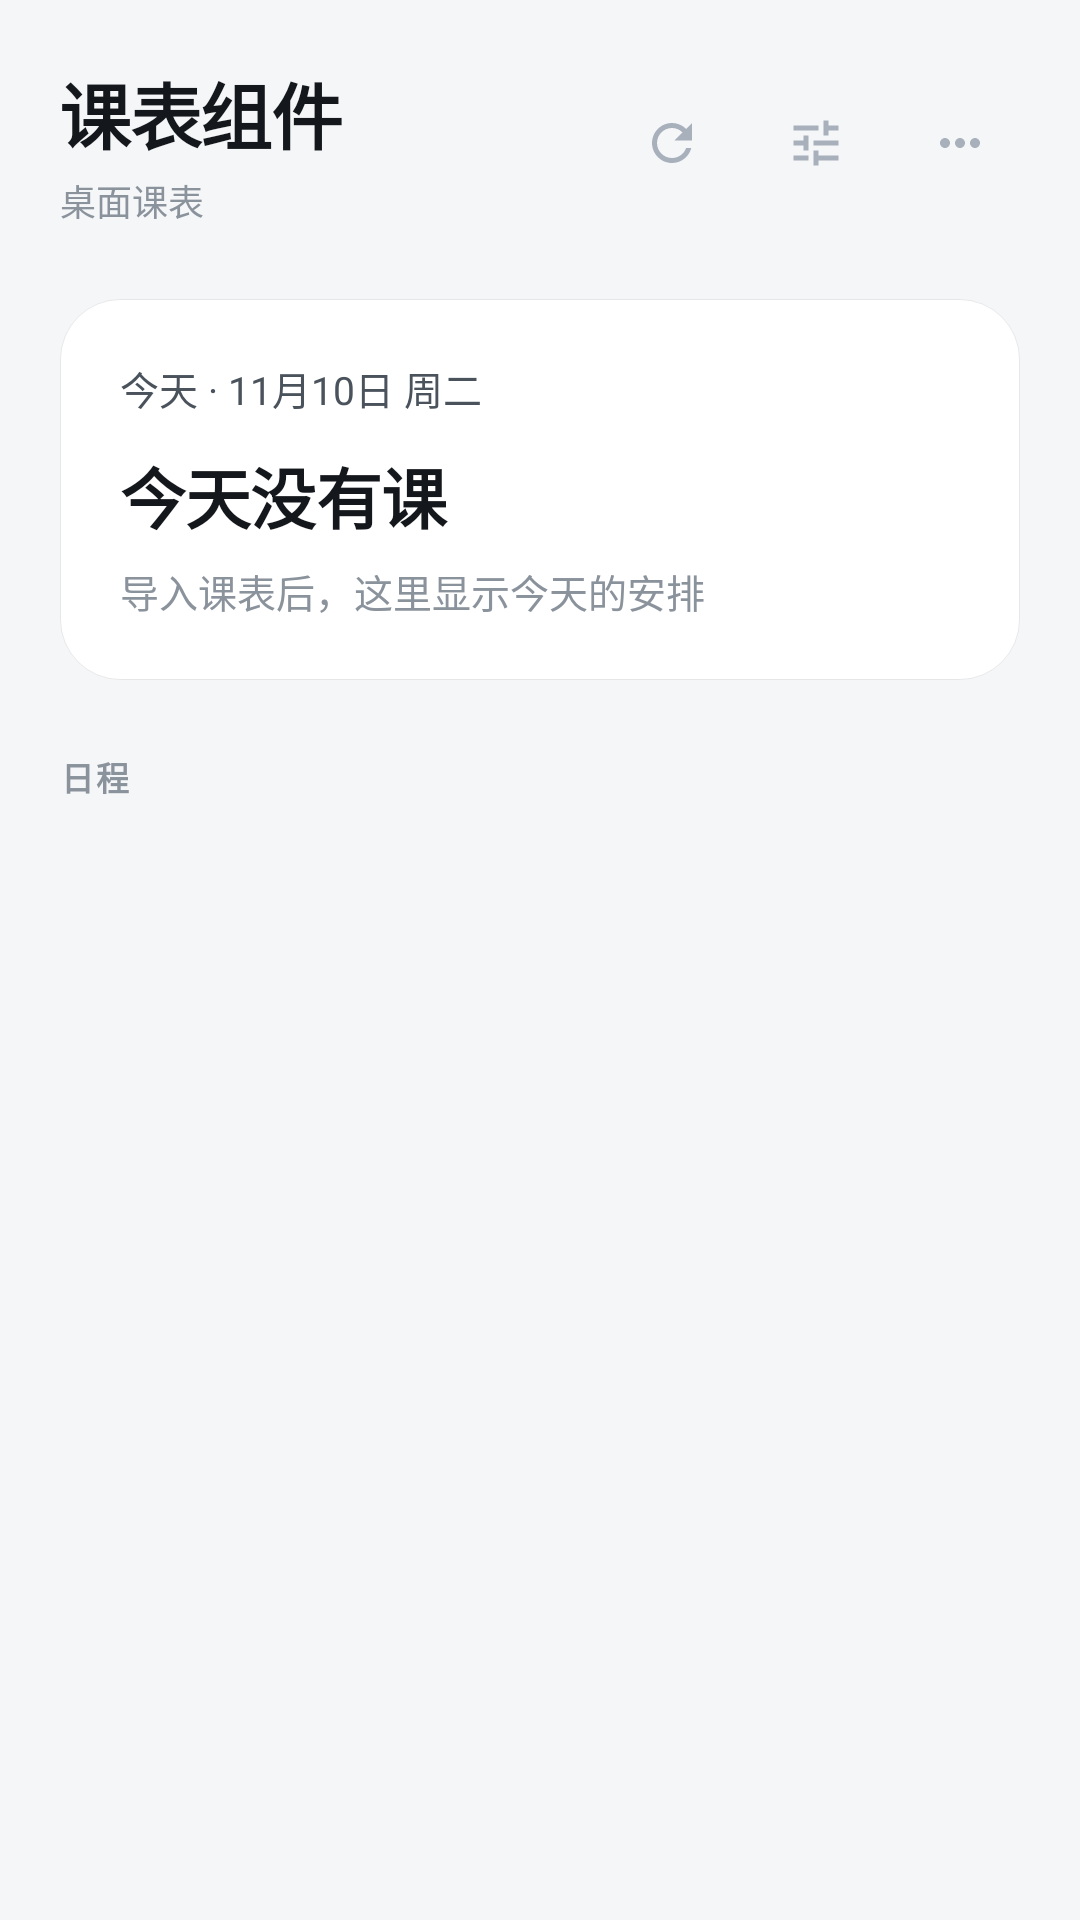

Icon click points for this 1080px×1920px phone screenshot, format (x=x, y=y):
刷新组件: (x=672, y=143)
更多: (x=960, y=143)
编辑样式: (x=816, y=143)
